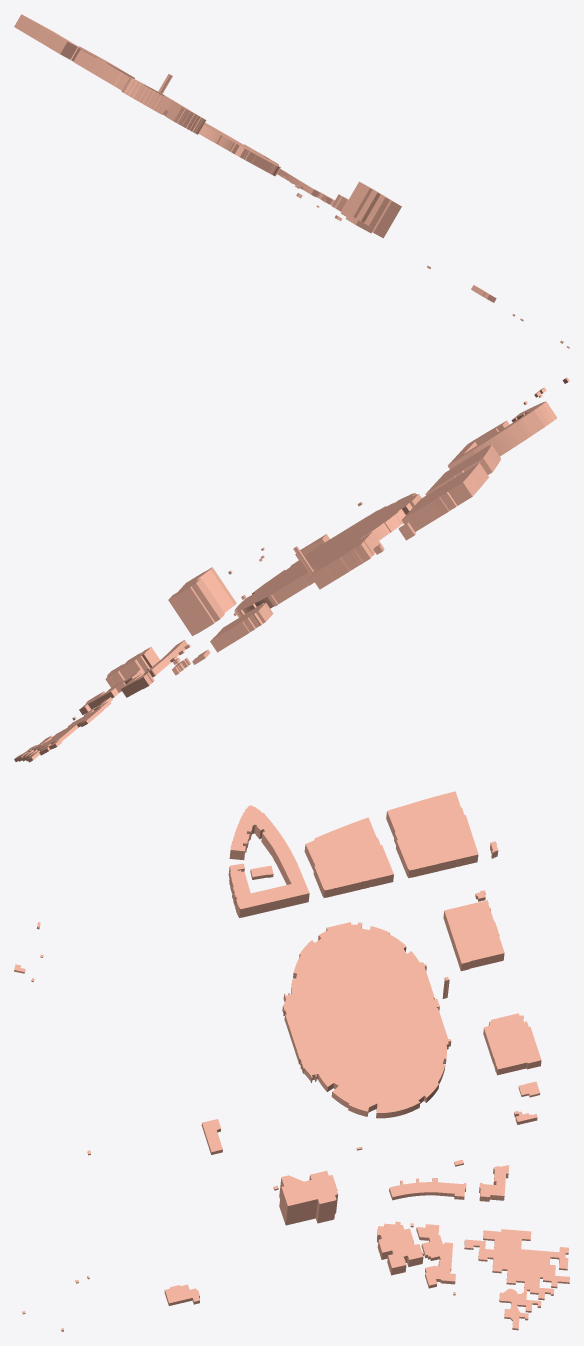
3 views of the same model, one above another, from view 1: azimuth 30°, elevation 25°; view 2: azimuth 150°, elevation 25°; view 3: azimuth 270°, elevation 25° (orthographic). The views are drawn at different scales.
Bounding box in the file's own units: 562 × 428 × 627.
